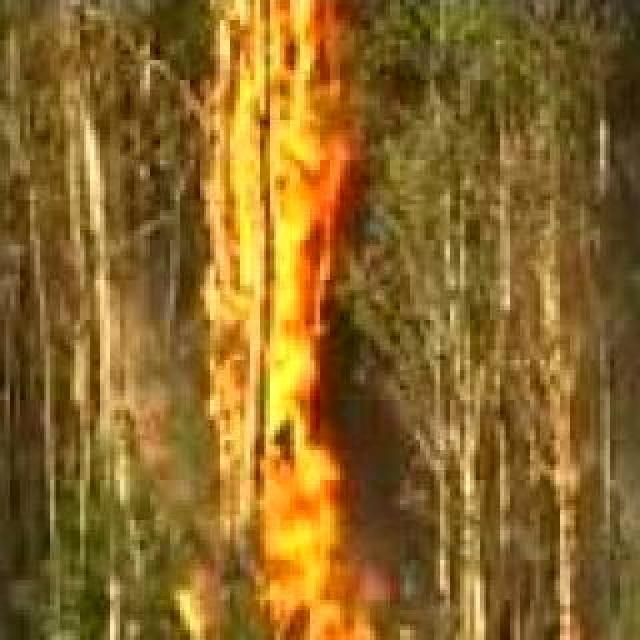fire: (204, 0, 348, 596)
